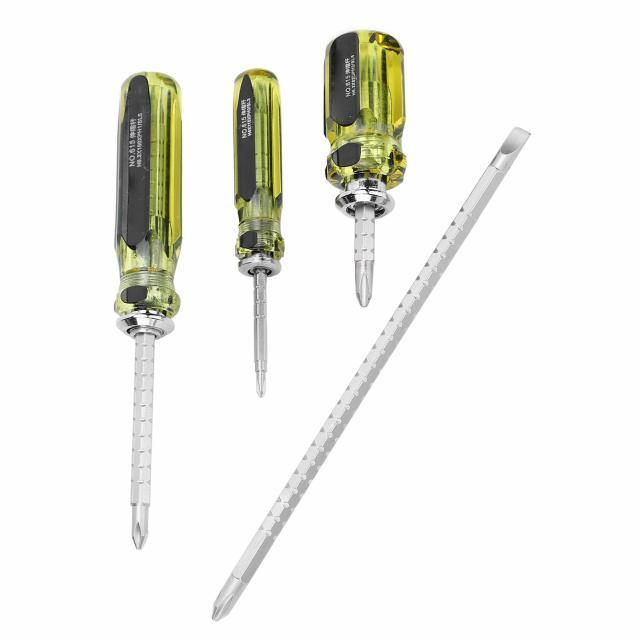screwdriver: (113, 70, 187, 555), (317, 29, 408, 306), (233, 65, 284, 398)
